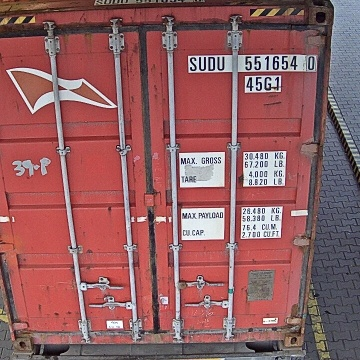serial_id: (188, 55, 316, 71)
